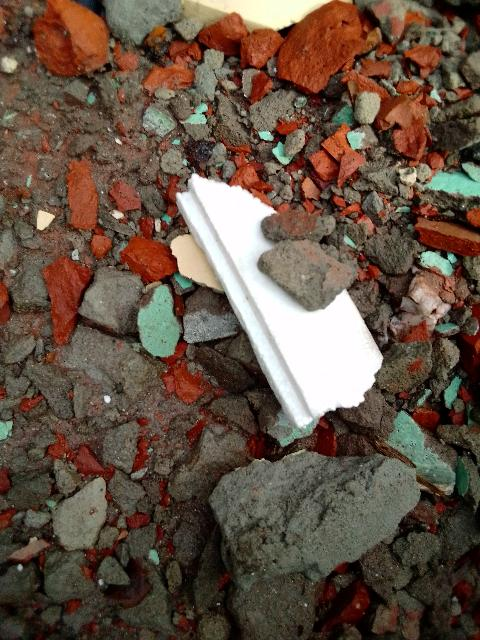cocksheet: (127, 155, 393, 435)
